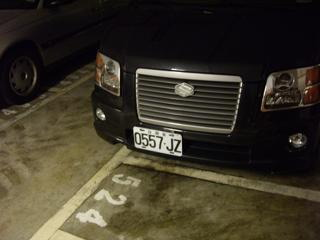plate: (130, 122, 186, 157)
